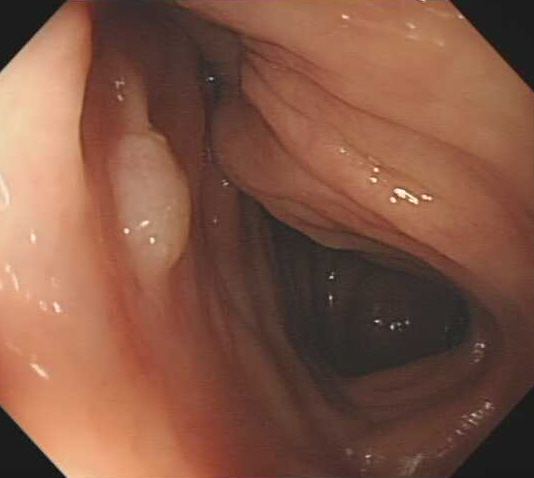others: (105, 127, 192, 285)
